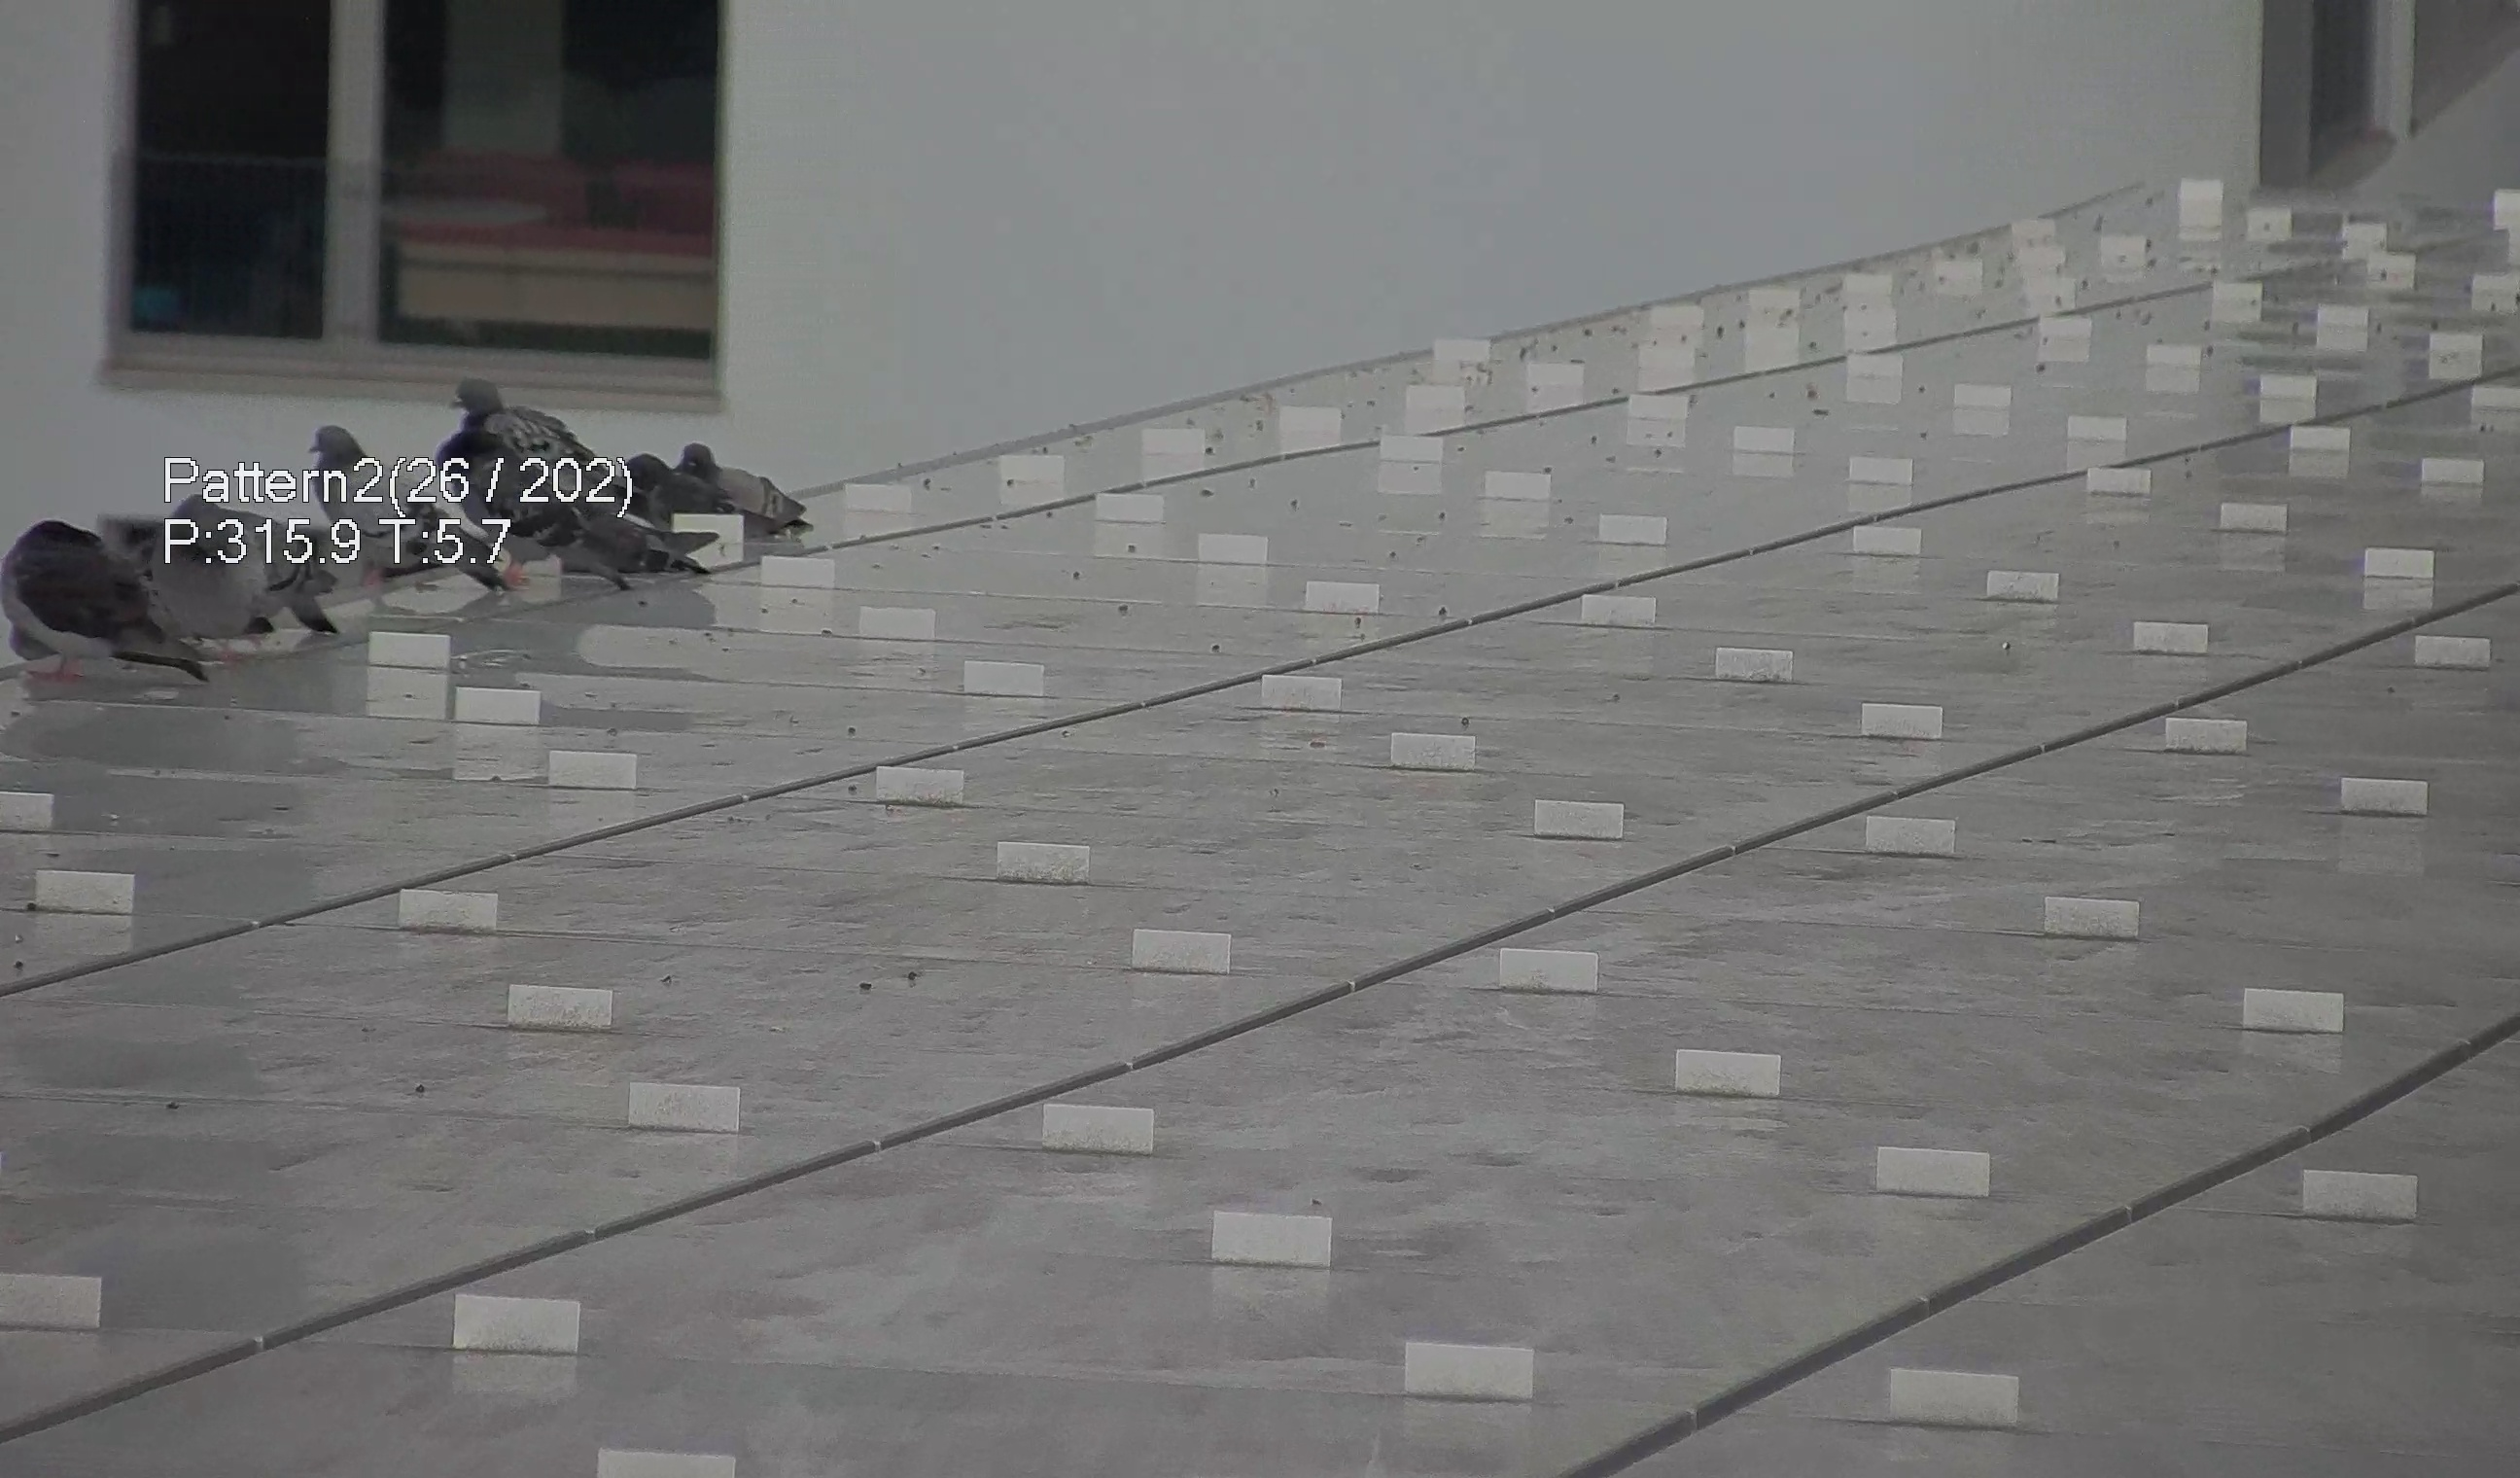Pigeon: (422, 352, 688, 588), (299, 410, 508, 612), (2, 510, 230, 681), (146, 484, 352, 649), (635, 421, 812, 544)
